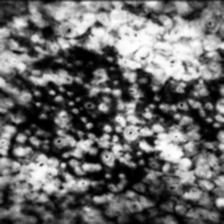Potentially Malignant Skin Tumors: (13, 50, 165, 190)
